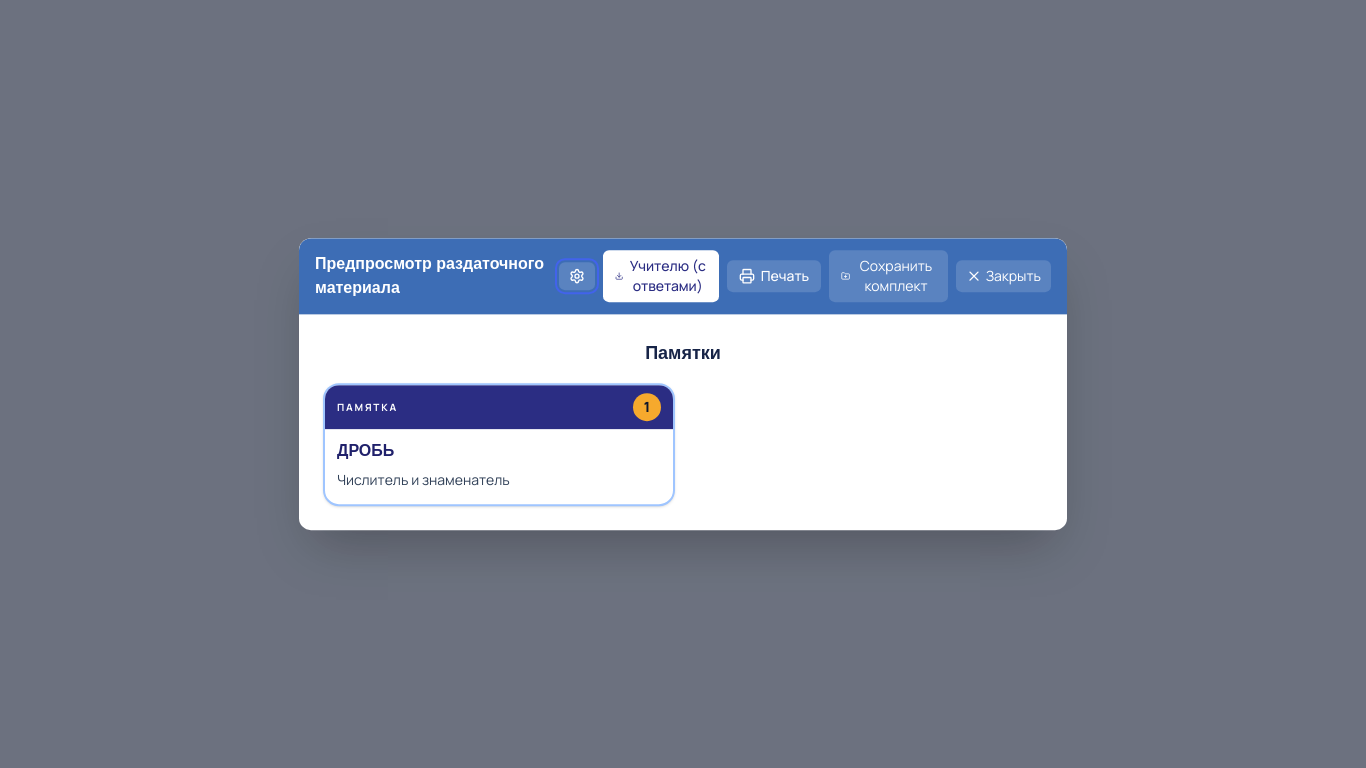
Scenario: настройки предпросмотра › настройки карточек тоже управляемы
What coordinates should you click on to do the following:
click the button titled "Настройки"
I would click on:
 (577, 276)
Its box is 559,262 -> 595,290.
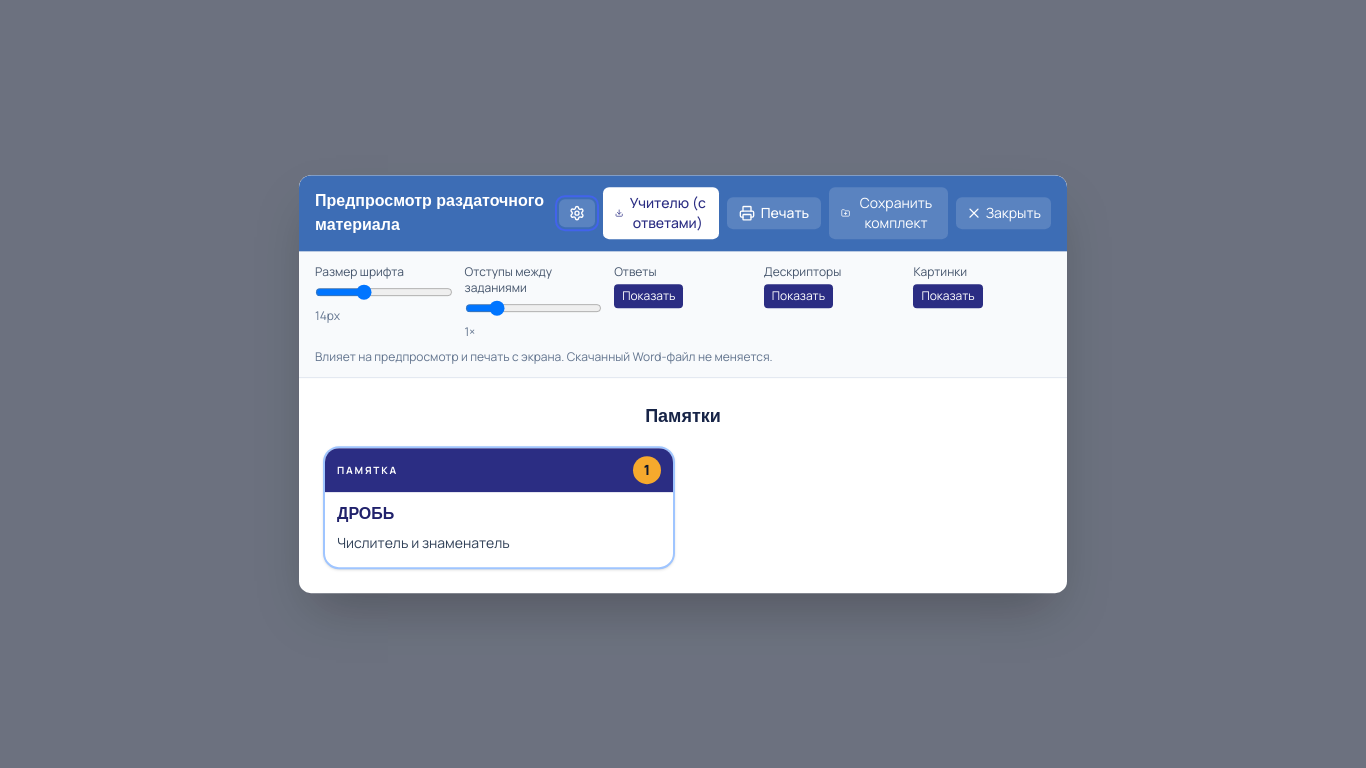
Expected: the text "Размер шрифта" is shown, 315,263 -> 404,280
Expected: the text "Картинки" is shown, 913,263 -> 967,280
